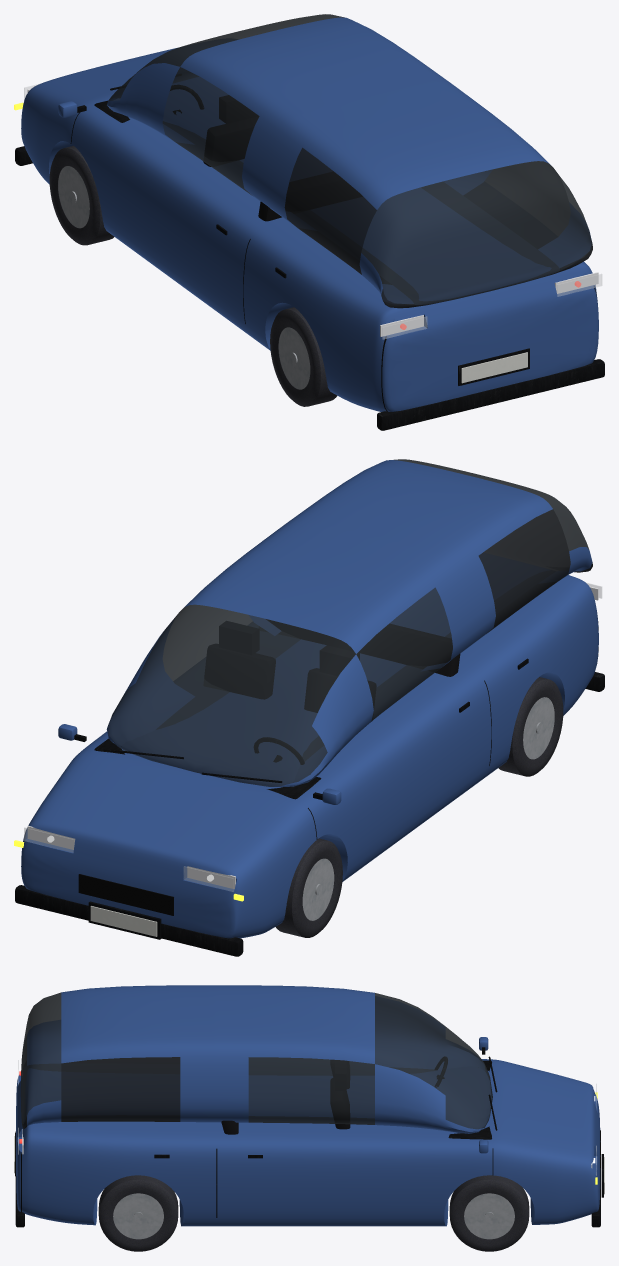
Rendered from minivan_blue.gltf.
The picture shows the model from 3 angles, top to bottom: view 1: azimuth 30°, elevation 25°; view 2: azimuth 150°, elevation 25°; view 3: azimuth 270°, elevation 25°; orthographic projection. The views are drawn at different scales.
Visible parts, largest first — view 1: minivan_blue; view 2: minivan_blue; view 3: minivan_blue.
Part boxes in pixels (x1=…): minivan_blue: x1=14, y1=14, x2=604, y2=430; minivan_blue: x1=14, y1=459, x2=604, y2=956; minivan_blue: x1=14, y1=985, x2=604, y2=1251.
Bounding box in the file's own units: 2.2 × 1.82 × 5.05.
Materials: 17 (8 with a texture image).
